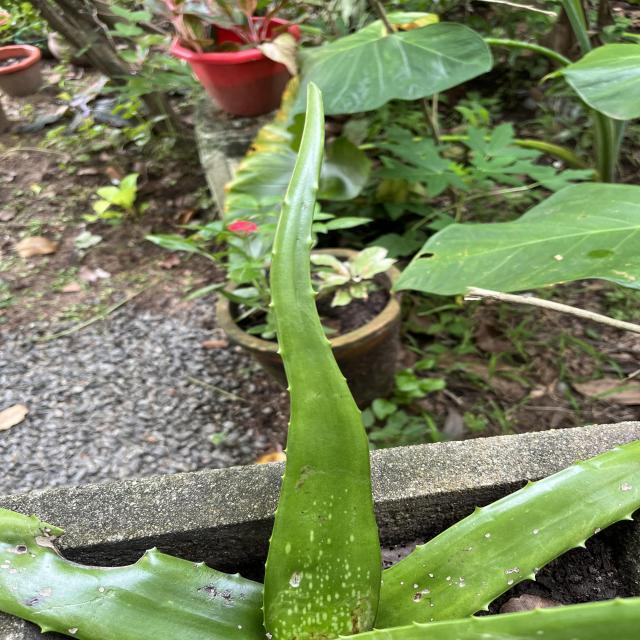Aloe vera: (258, 79, 388, 634)
